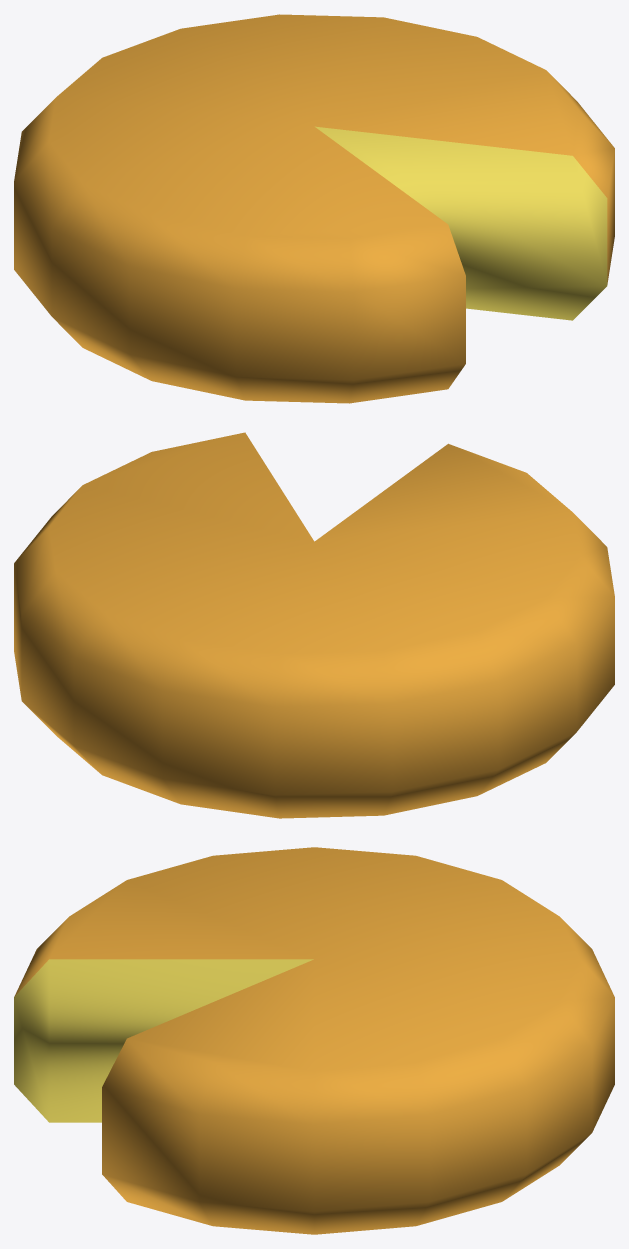
File: CheeseSliced.fbx
3 renders of one model, top to bottom at view 1: azimuth 30°, elevation 25°; view 2: azimuth 150°, elevation 25°; view 3: azimuth 270°, elevation 25°, orthographic.
Visible parts, largest first — view 1: Cheese; view 2: Cheese; view 3: Cheese.
Part boxes in pixels (<box>): Cheese: <box>14,14,614,403</box>; Cheese: <box>14,432,614,818</box>; Cheese: <box>14,847,614,1234</box>.
Bounding box in the file's own units: 200 × 60 × 200.
